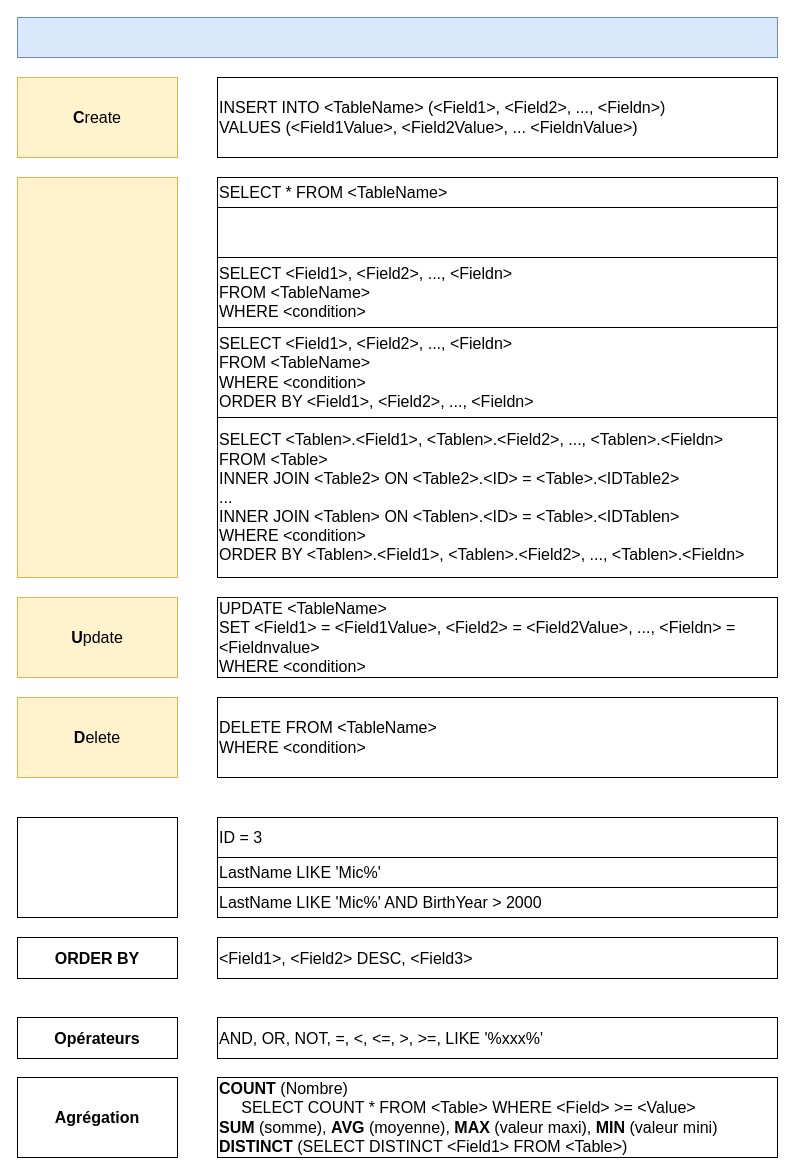
Some shapes in this 795 by 1175 pixel diagram are drawn without their labels. The shapes that lost their labels are listed below. From the top down, each one's box as (x1, y1, x2, y2) in pixels, then its label:
(16, 16, 778, 58): SQL (Structured Query Language)
(216, 206, 778, 258): SELECT <Field1>, <Field2>, ..., <Fieldn> FROM <TableName>
(16, 176, 178, 578): R ead
(16, 816, 178, 918): WHERE <condition>
